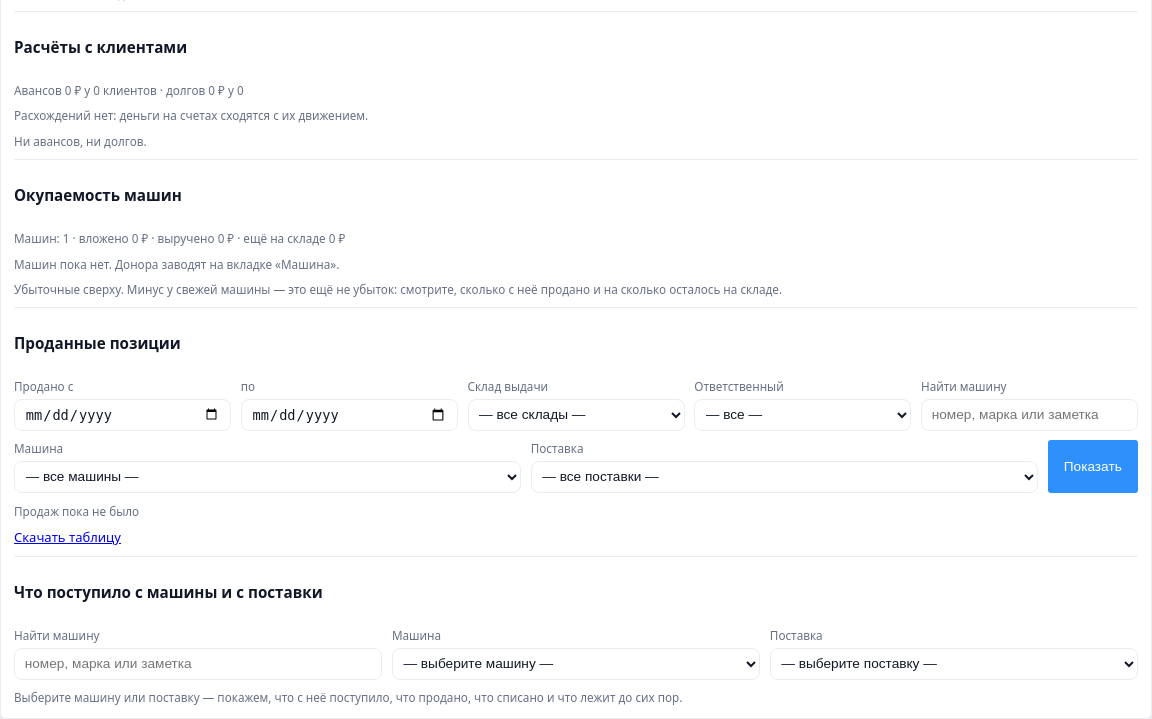
Scenario: разрез по машине на экране отчётов › пустая вкладка говорит словами, а не молчит
(page scrolled)
Step 1. Select "418 · Toyota Camry 2007" in the 2nd dropdown labelled "Машина" → x=576, y=664, box [392, 648, 760, 680]
(page scrolled)
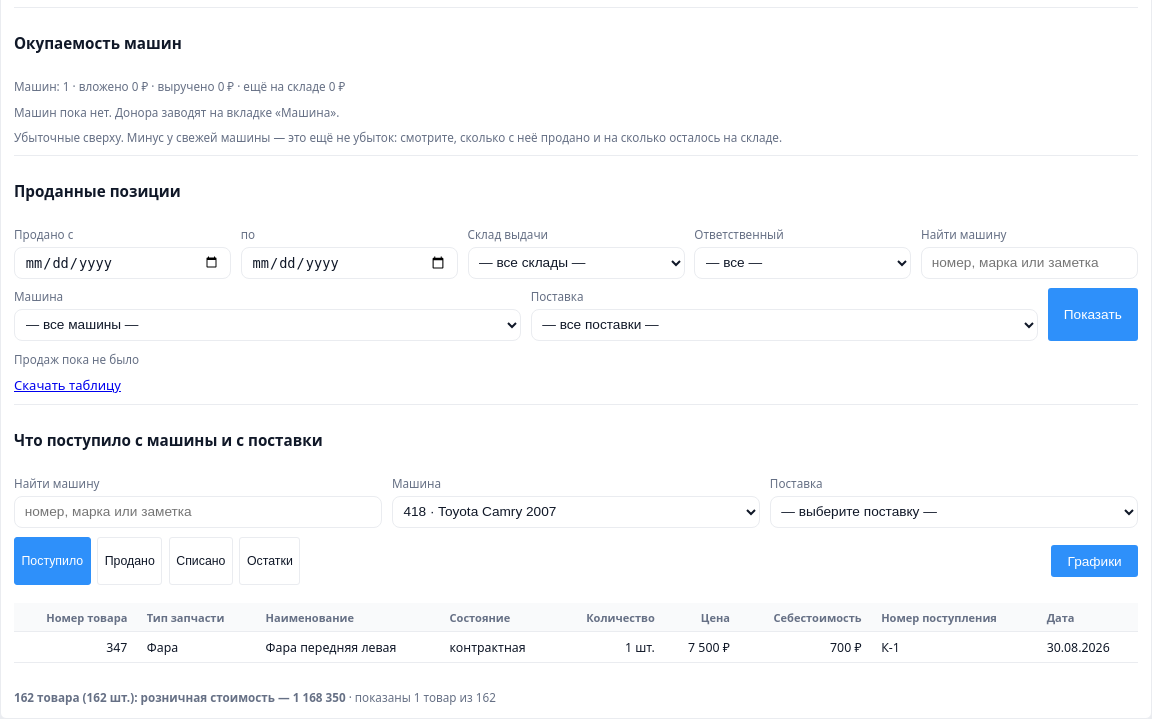
Step 2. Click the button "Списано" → x=201, y=561, box [169, 537, 233, 585]
(page scrolled)
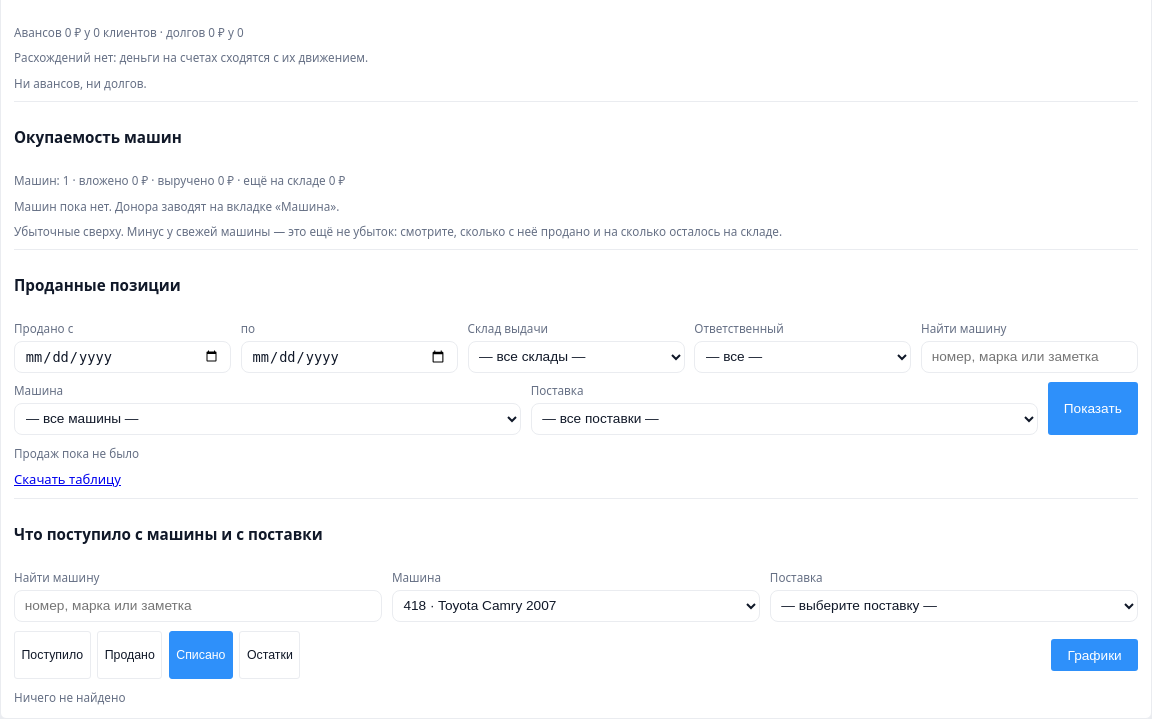
Expected: the text "Ничего не найдено" is shown, [14, 689, 126, 705]
